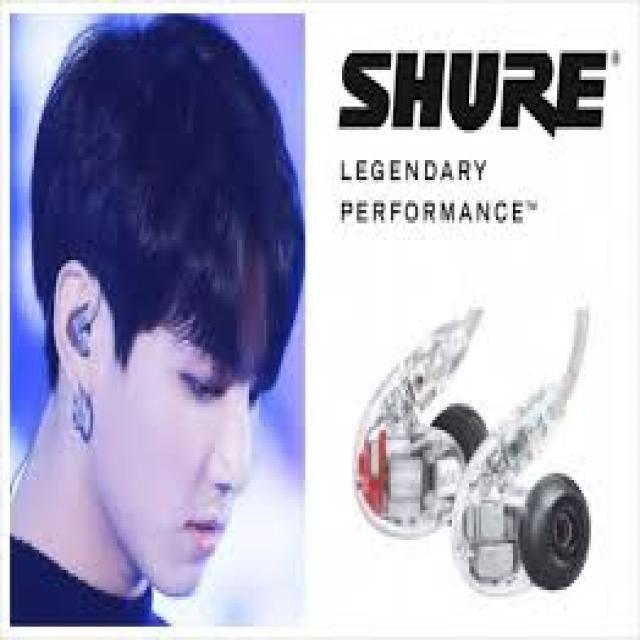earphone: (351, 289, 610, 626), (66, 280, 108, 375)
